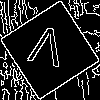V: (25, 25, 67, 76)
